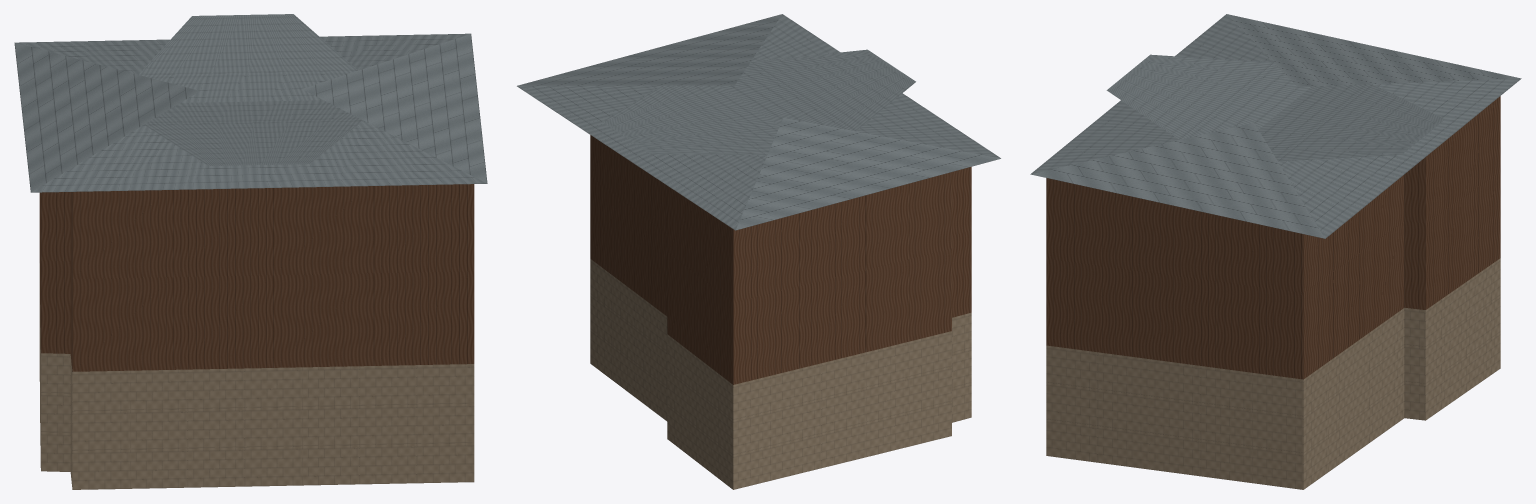
The model's file is bld_c44_-40_425.gltf.
3 views of the same model, side by side, from view 1: azimuth 30°, elevation 25°; view 2: azimuth 150°, elevation 25°; view 3: azimuth 270°, elevation 25° (orthographic). The views are drawn at different scales.
Parts seen in each view (by area): view 1: bld_c44_-40_425; view 2: bld_c44_-40_425; view 3: bld_c44_-40_425.
Part boxes in pixels (x1,y1,x2,y2): bld_c44_-40_425: (14, 14, 487, 489); bld_c44_-40_425: (517, 14, 1000, 489); bld_c44_-40_425: (1030, 14, 1521, 489).
Size of the model in its own units: 22.28 by 14.1 by 20.58.
Materials: 3 (3 with a texture image).
